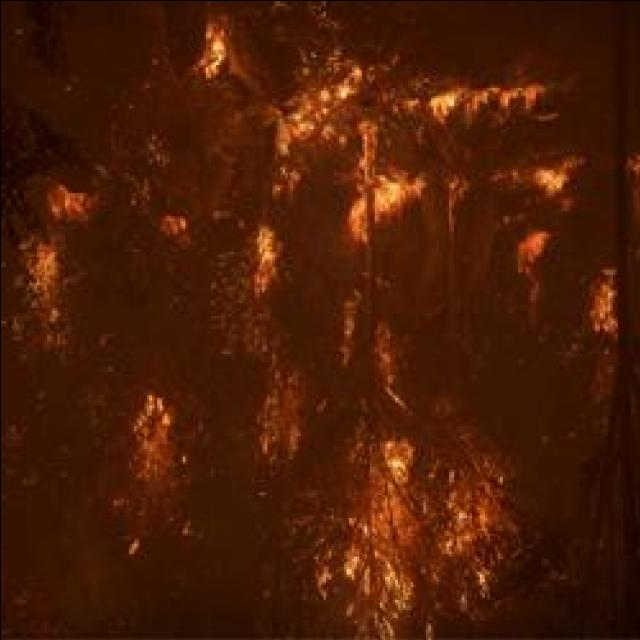fire: (344, 171, 424, 231), (415, 80, 544, 116), (128, 392, 176, 470), (584, 273, 620, 329)
smoke: (452, 2, 600, 72)
